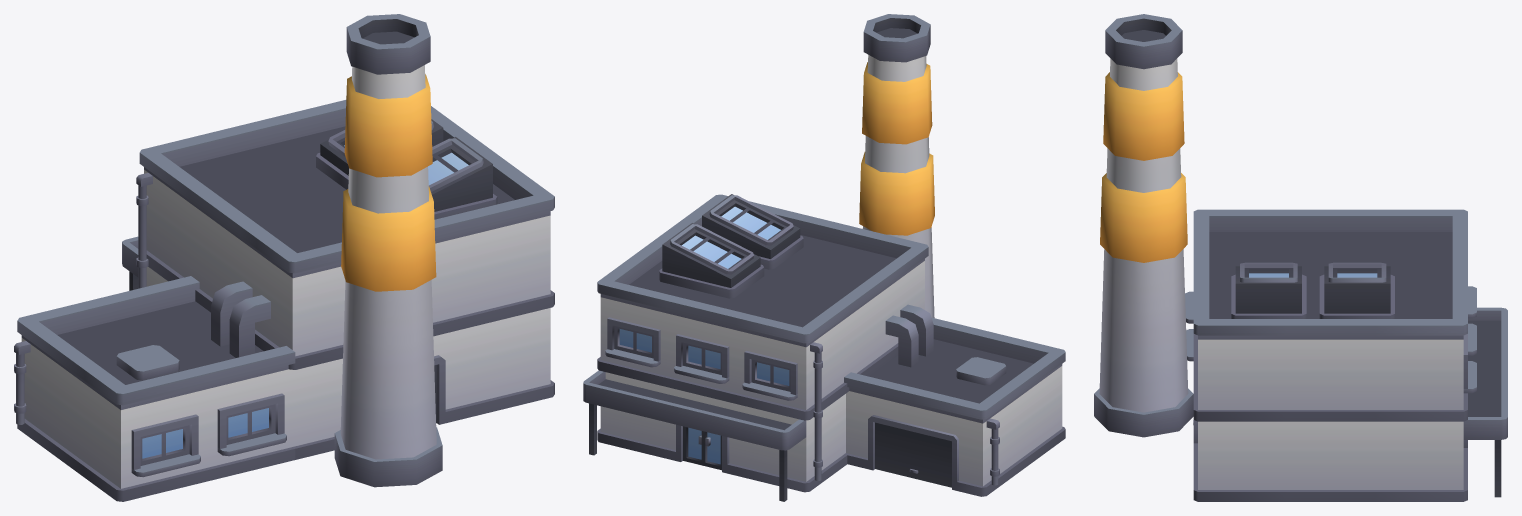
Rendered from k-city-kit-industrial-building-l.glb.
3 renders of one model, left to right at view 1: azimuth 30°, elevation 25°; view 2: azimuth 150°, elevation 25°; view 3: azimuth 270°, elevation 25°, orthographic. The views are drawn at different scales.
Visible parts, largest first — view 1: building-l; view 2: building-l; view 3: building-l.
Boxes of the visible parts, x1,y1,x2,y2 form: building-l: (14, 14, 554, 501); building-l: (583, 14, 1065, 501); building-l: (1094, 14, 1507, 501).
Size of the model in its own units: 2.08 by 1.93 by 1.87.
Materials: 1 (1 with a texture image).
